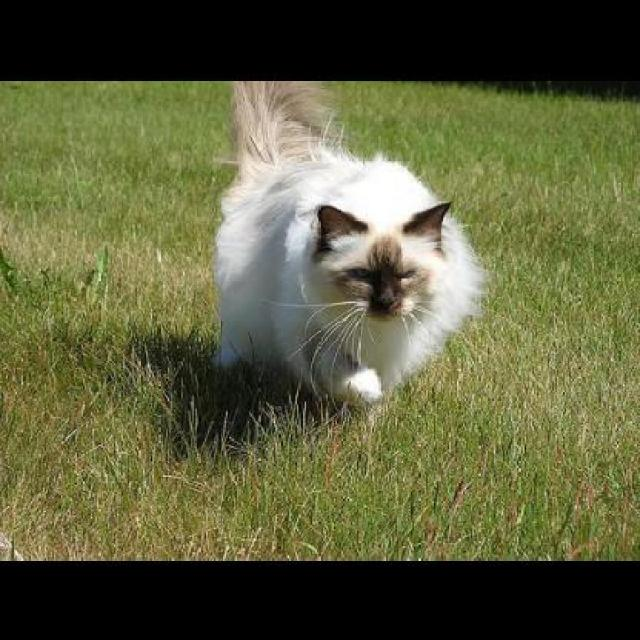unauthorized: (209, 79, 488, 412)
